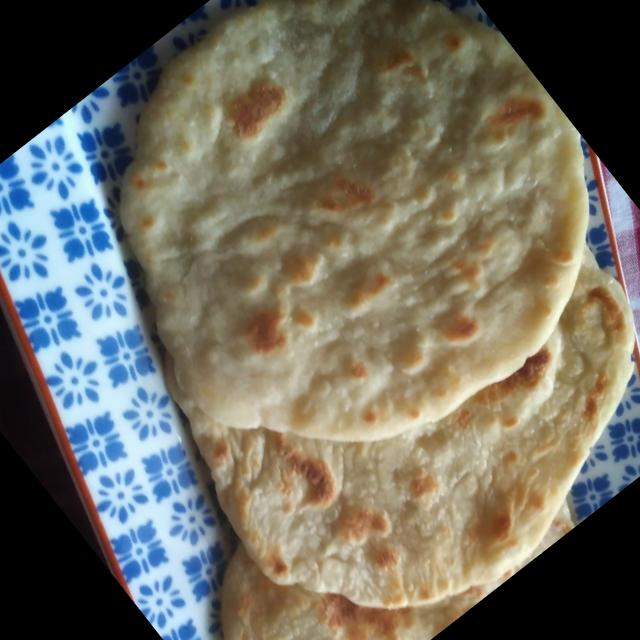roti: (124, 0, 637, 640)
